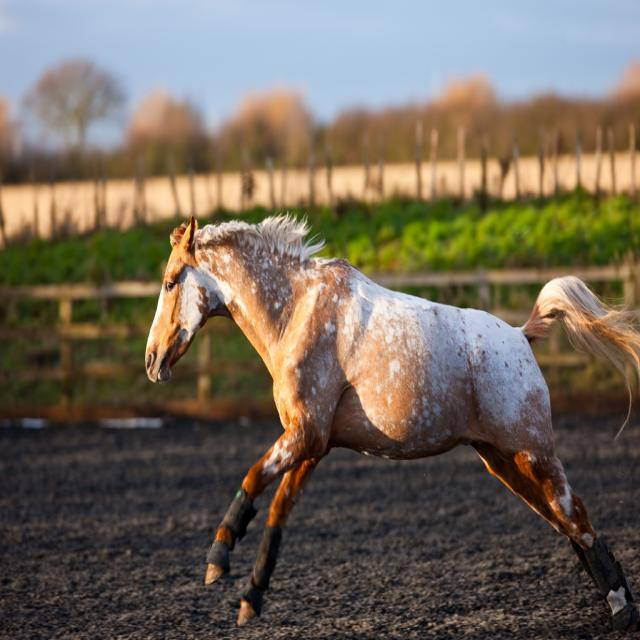Horse: (145, 213, 640, 631)
